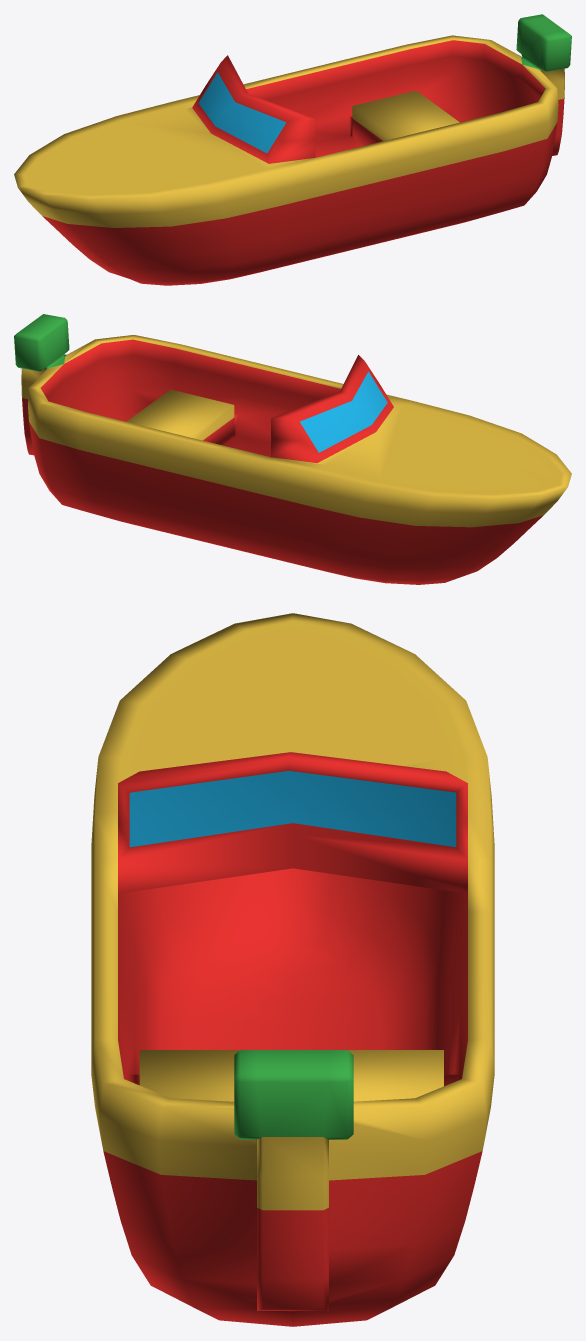
Rendered from Boat.fbx.
The picture shows the model from 3 angles, top to bottom: view 1: azimuth 30°, elevation 25°; view 2: azimuth 150°, elevation 25°; view 3: azimuth 270°, elevation 25°; orthographic projection. The views are drawn at different scales.
Visible parts, largest first — view 1: Cube; view 2: Cube; view 3: Cube.
Boxes of the visible parts, x1,y1,x2,y2 form: Cube: [14, 14, 571, 285]; Cube: [14, 314, 571, 584]; Cube: [91, 613, 494, 1326].
Size of the model in its own units: 659 by 190 by 213.
